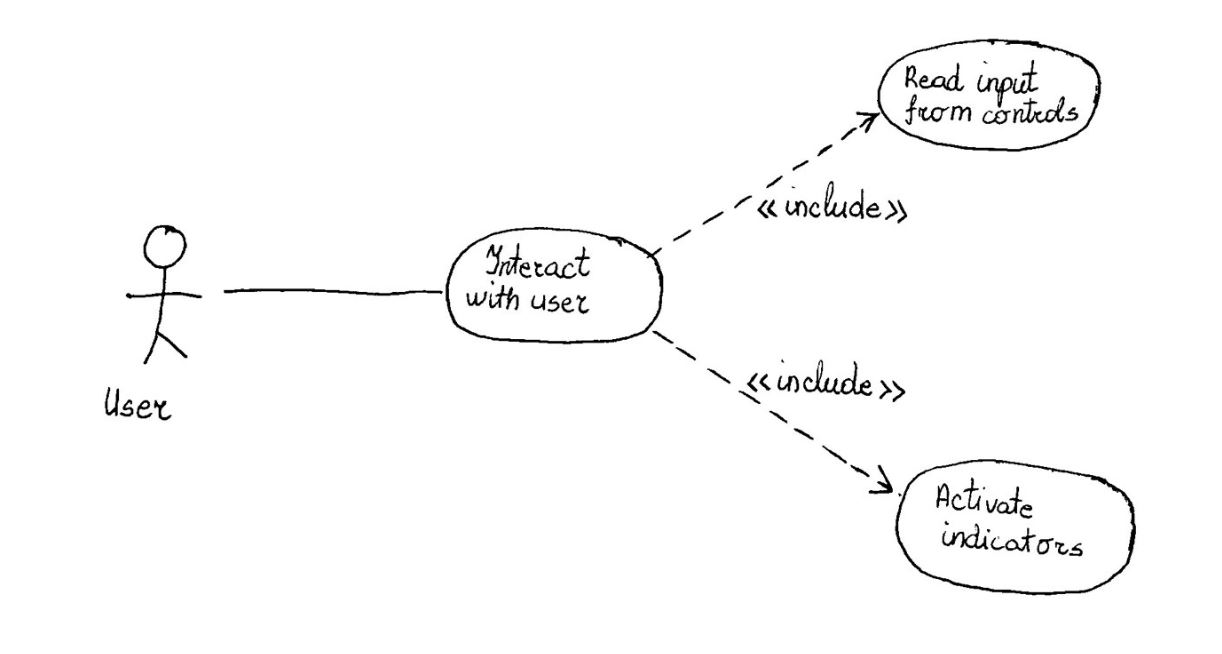actor: (123, 223, 203, 371)
association: (652, 334, 897, 501), (654, 106, 880, 254), (214, 272, 444, 314)
text: (930, 477, 1097, 563), (900, 62, 1085, 128), (460, 241, 608, 320), (81, 368, 198, 437), (757, 182, 918, 231), (743, 366, 905, 404)
use_case: (899, 458, 1136, 596), (447, 227, 662, 346), (875, 39, 1099, 152)
